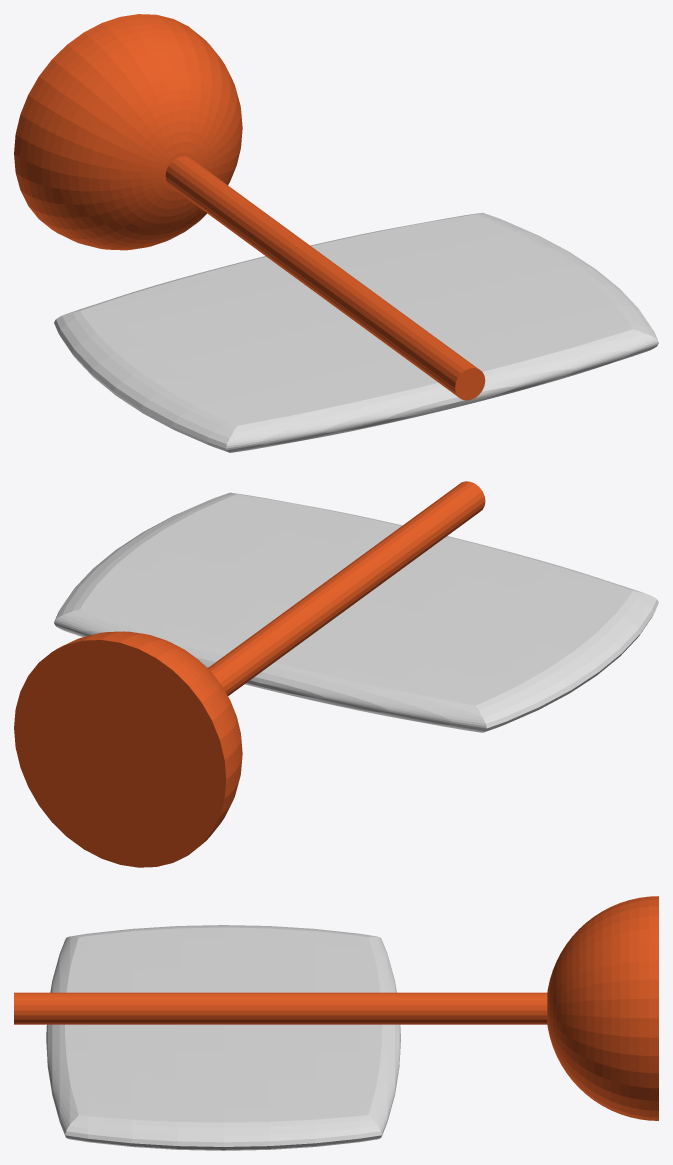
Rendered from tinker.obj.
3 views of the same model, one above another, from view 1: azimuth 30°, elevation 25°; view 2: azimuth 150°, elevation 25°; view 3: azimuth 270°, elevation 25° (orthographic). The views are drawn at different scales.
Parts seen in each view (by area): view 1: group_0_16777215, group_0_14900002; view 2: group_0_16777215, group_0_14900002; view 3: group_0_16777215, group_0_14900002.
Part boxes in pixels (<box>): group_0_16777215: <box>54,212,658,452</box>; group_0_14900002: <box>14,14,485,400</box>; group_0_16777215: <box>54,492,658,732</box>; group_0_14900002: <box>14,481,485,867</box>; group_0_16777215: <box>46,925,400,1150</box>; group_0_14900002: <box>14,896,658,1120</box>.
Bounding box in the file's own units: 16.01 × 7 × 20.
